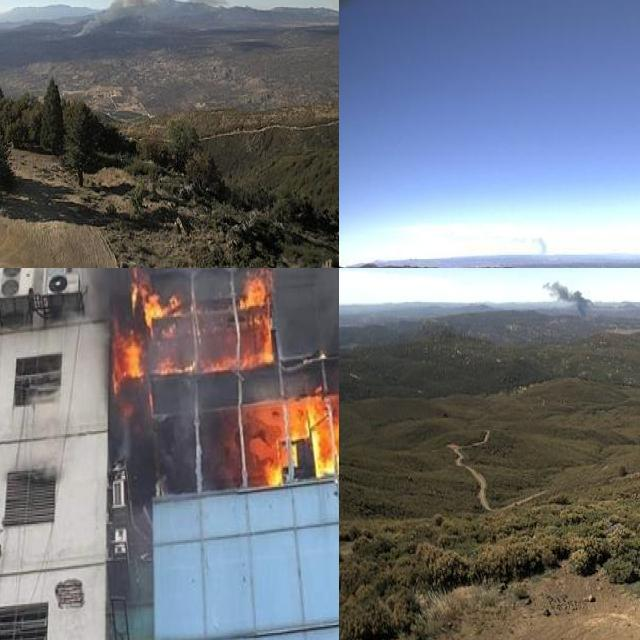fire: (116, 268, 339, 475)
smoke: (65, 0, 224, 48), (539, 270, 596, 319), (517, 231, 545, 263)
